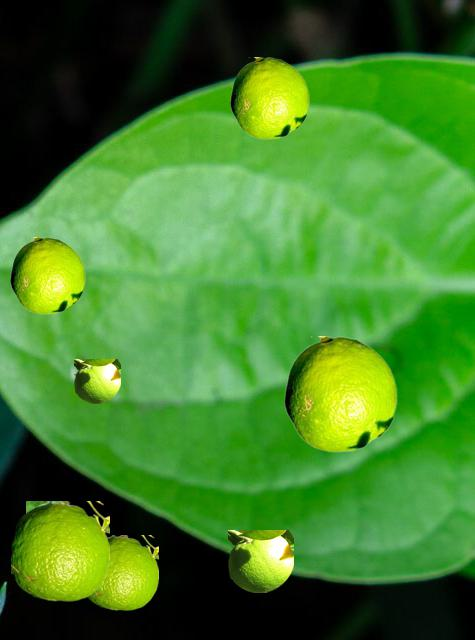dalandan: (284, 336, 396, 451), (11, 501, 108, 600), (230, 57, 308, 138), (10, 237, 84, 313), (88, 535, 157, 609), (228, 530, 292, 591), (74, 359, 119, 402), (26, 501, 58, 511)
